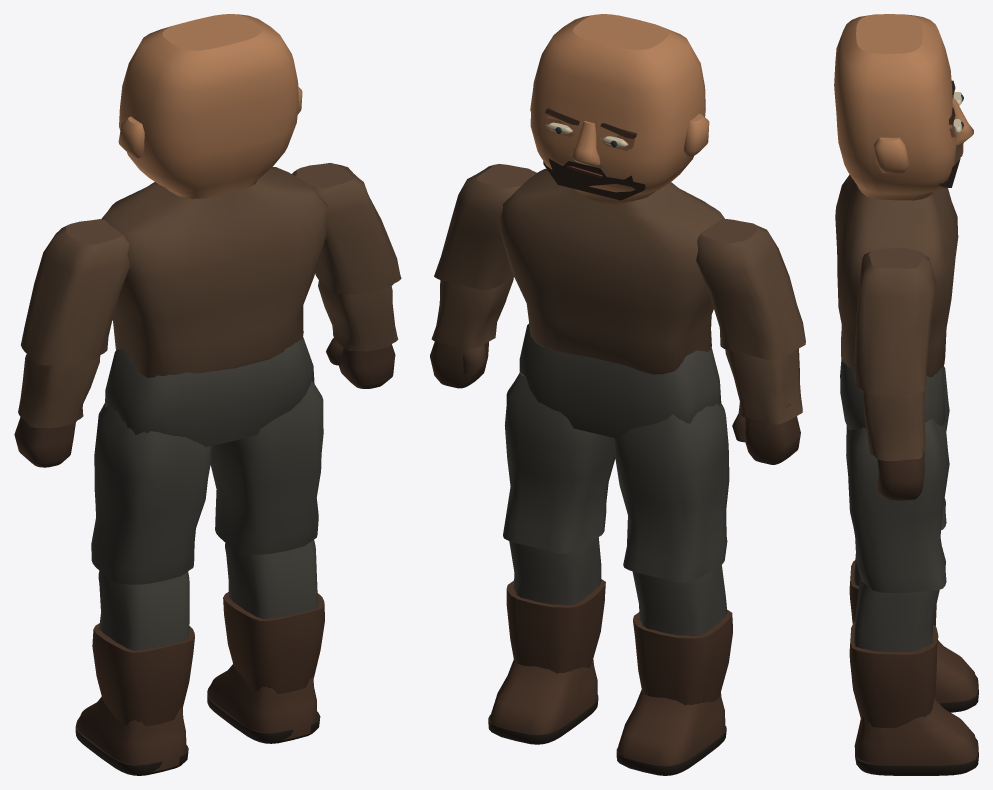
The model's file is VeteranBody.glb.
3 renders of one model, left to right at view 1: azimuth 30°, elevation 25°; view 2: azimuth 150°, elevation 25°; view 3: azimuth 270°, elevation 25°, orthographic. The views are drawn at different scales.
Visible parts, largest first — view 1: UpperTorso, Head, LeftUpperLeg, RightUpperLeg, LowerTorso, LeftUpperArm, RightUpperArm, LeftBootUpper, RightBootUpper, LeftLowerLeg, RightLowerLeg, RightFoot (+8 smaller); view 2: UpperTorso, Head, LeftUpperLeg, RightUpperLeg, LowerTorso, LeftUpperArm, RightUpperArm, LeftBootUpper, RightBootUpper, RightFoot, LeftFoot, LeftLowerLeg (+10 smaller); view 3: Head, RightUpperLeg, UpperTorso, RightUpperArm, RightBootUpper, RightFoot, RightLowerLeg, RightLowerArm, LowerTorso, LeftFoot, RightHand, RightSole (+6 smaller).
Part boxes in pixels (x1,y1,x2,y2): UpperTorso: (101, 167, 328, 378); Head: (119, 14, 298, 198); LeftUpperLeg: (91, 403, 211, 584); RightUpperLeg: (210, 381, 323, 554); LowerTorso: (105, 337, 314, 447); LeftUpperArm: (21, 219, 129, 365); RightUpperArm: (292, 163, 401, 294); LeftBootUpper: (92, 623, 194, 726); RightBootUpper: (223, 592, 324, 693); LeftLowerLeg: (98, 571, 189, 650); RightLowerLeg: (225, 539, 318, 619); RightFoot: (207, 664, 317, 739); UpperTorso: (499, 168, 724, 374); Head: (530, 14, 705, 204); LeftUpperLeg: (614, 404, 729, 582); RightUpperLeg: (503, 372, 615, 553); LowerTorso: (519, 323, 721, 438); LeftUpperArm: (696, 218, 805, 360); RightUpperArm: (434, 164, 536, 290); LeftBootUpper: (633, 609, 732, 705); RightBootUpper: (506, 579, 605, 673); RightFoot: (490, 659, 597, 734); LeftFoot: (618, 690, 725, 765); LeftLowerLeg: (632, 565, 727, 635); Head: (834, 14, 957, 200); RightUpperLeg: (846, 418, 949, 592); UpperTorso: (835, 174, 958, 376); RightUpperArm: (854, 248, 936, 395); RightBootUpper: (849, 622, 938, 727); RightFoot: (854, 698, 977, 765); RightLowerLeg: (854, 576, 939, 652); RightLowerArm: (863, 389, 925, 460); LowerTorso: (840, 358, 944, 429); LeftFoot: (934, 640, 978, 702); RightHand: (877, 451, 924, 500); RightSole: (856, 738, 978, 775).
Bounding box in the file's own units: 3.01 × 5.53 × 1.04.
